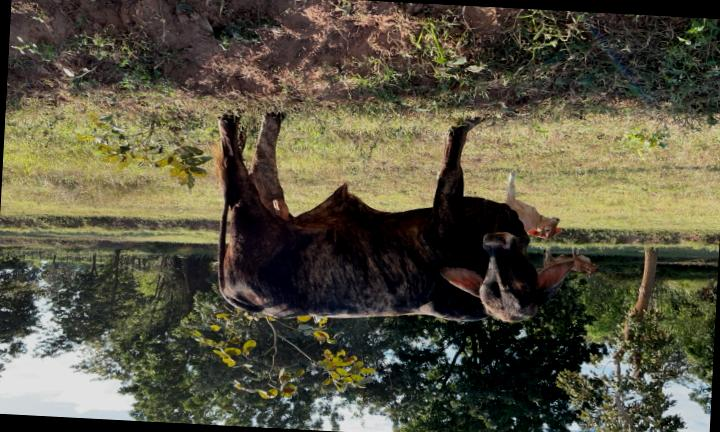Charolais: (217, 114, 571, 321)
